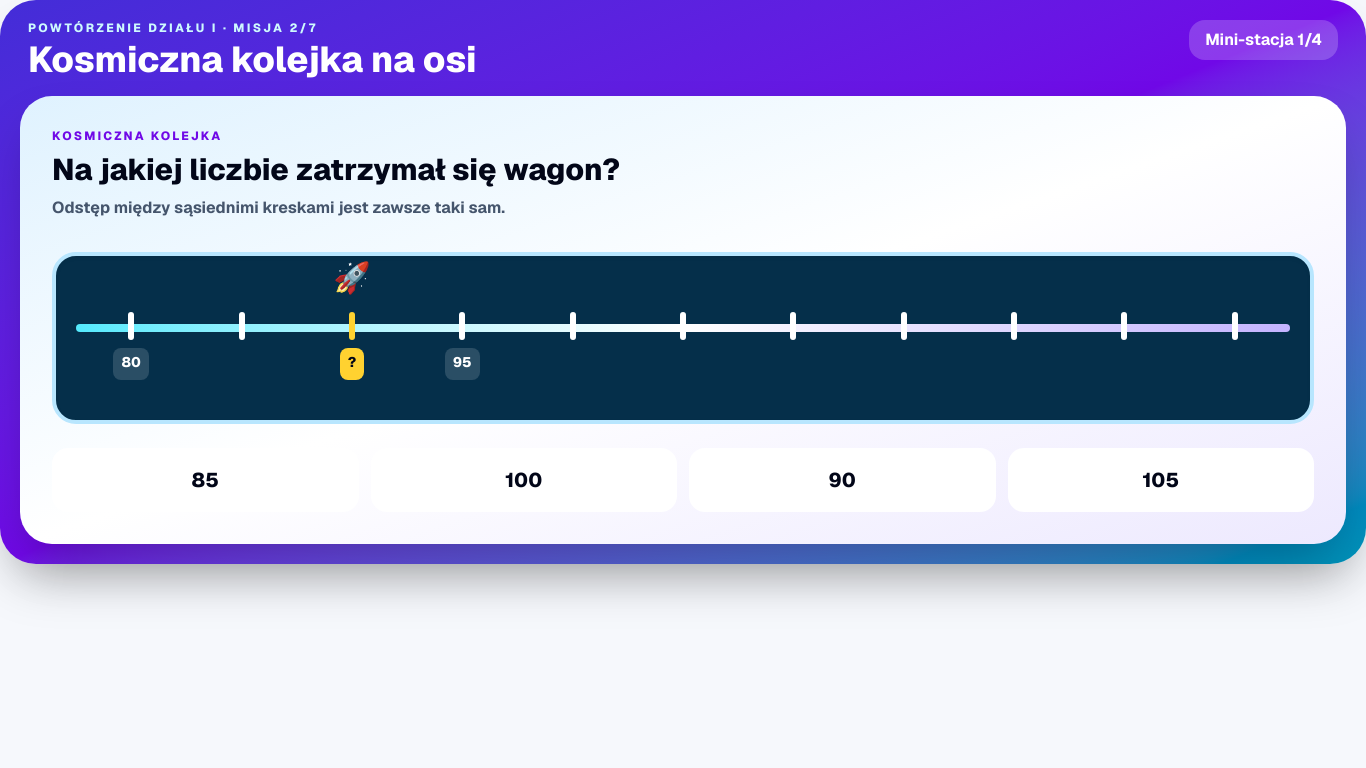
Test: SectionOneReviewLessonModel › kolejka akceptuje wartość wynikającą ze skali osi
The image size is (1366, 768).
Click the button "90" at (842, 480), box x1=689 y1=448 x2=996 y2=512
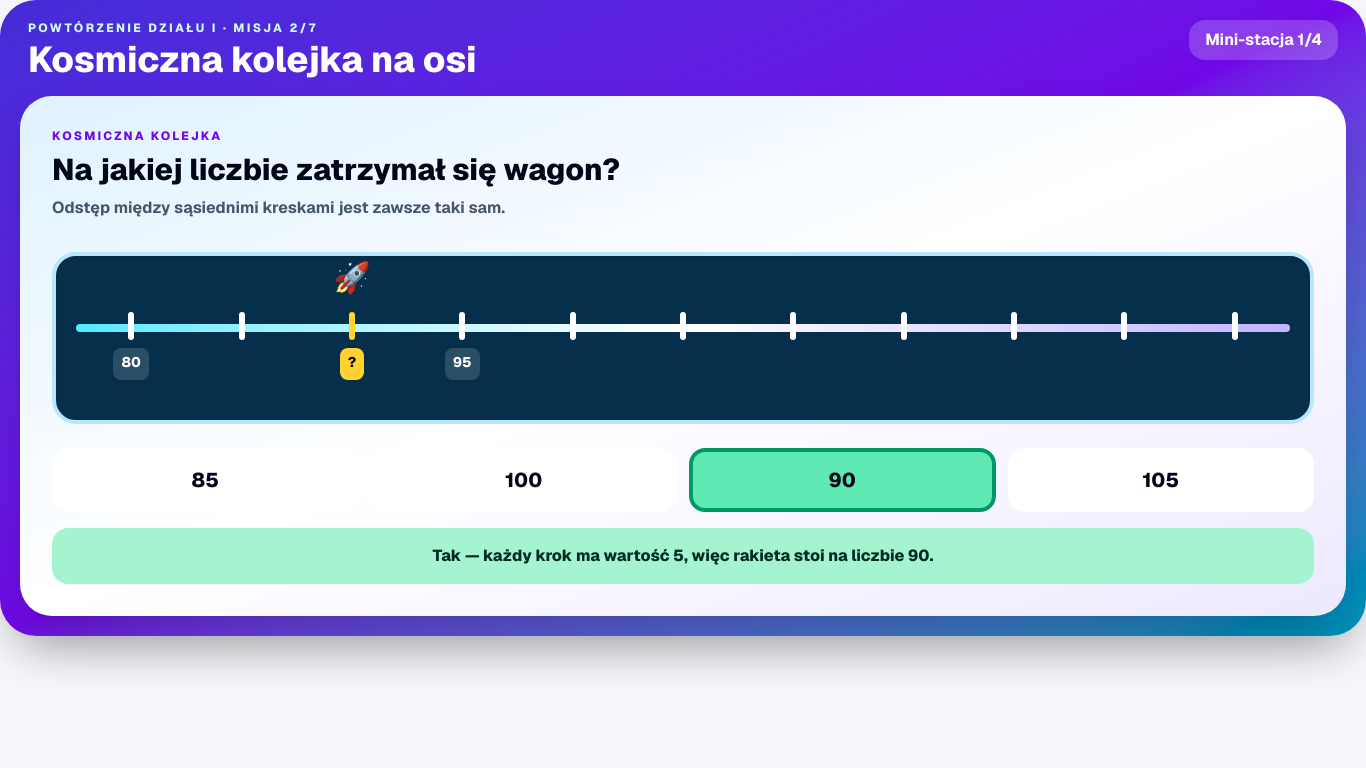
Expected: the message shows "wartość 5", x1=432 y1=545 x2=934 y2=566
